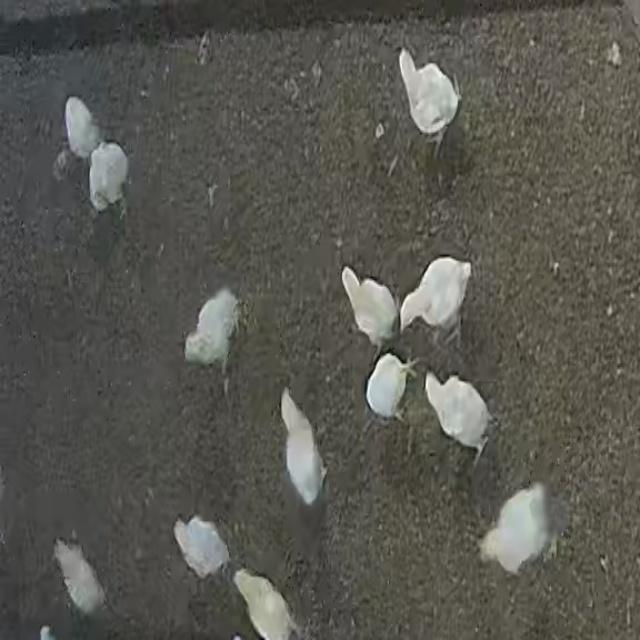chicken: (478, 482, 558, 578), (398, 257, 472, 346), (424, 370, 493, 462), (397, 47, 461, 146), (280, 389, 326, 508), (342, 265, 399, 354), (184, 288, 240, 373), (233, 570, 298, 638), (53, 538, 107, 619), (172, 515, 232, 582), (366, 352, 418, 427), (88, 142, 129, 214), (64, 96, 103, 162)
